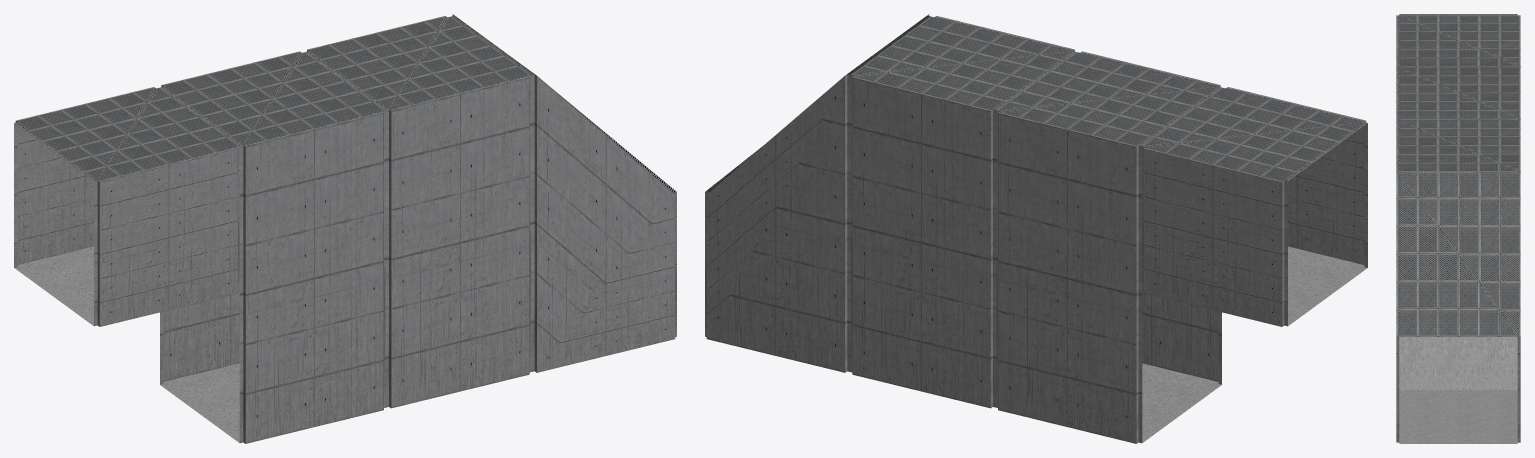
Rendered from Stair.fbx.
3 renders of one model, left to right at view 1: azimuth 30°, elevation 25°; view 2: azimuth 150°, elevation 25°; view 3: azimuth 270°, elevation 25°, orthographic. The views are drawn at different scales.
Visible parts, largest first — view 1: Room; view 2: Room; view 3: Room.
Part boxes in pixels (left/top/right/bottom): Room: left=14, top=14, right=676, bottom=443; Room: left=705, top=14, right=1367, bottom=443; Room: left=1396, top=14, right=1520, bottom=443.
Size of the model in its own units: 800 by 390 by 200.
